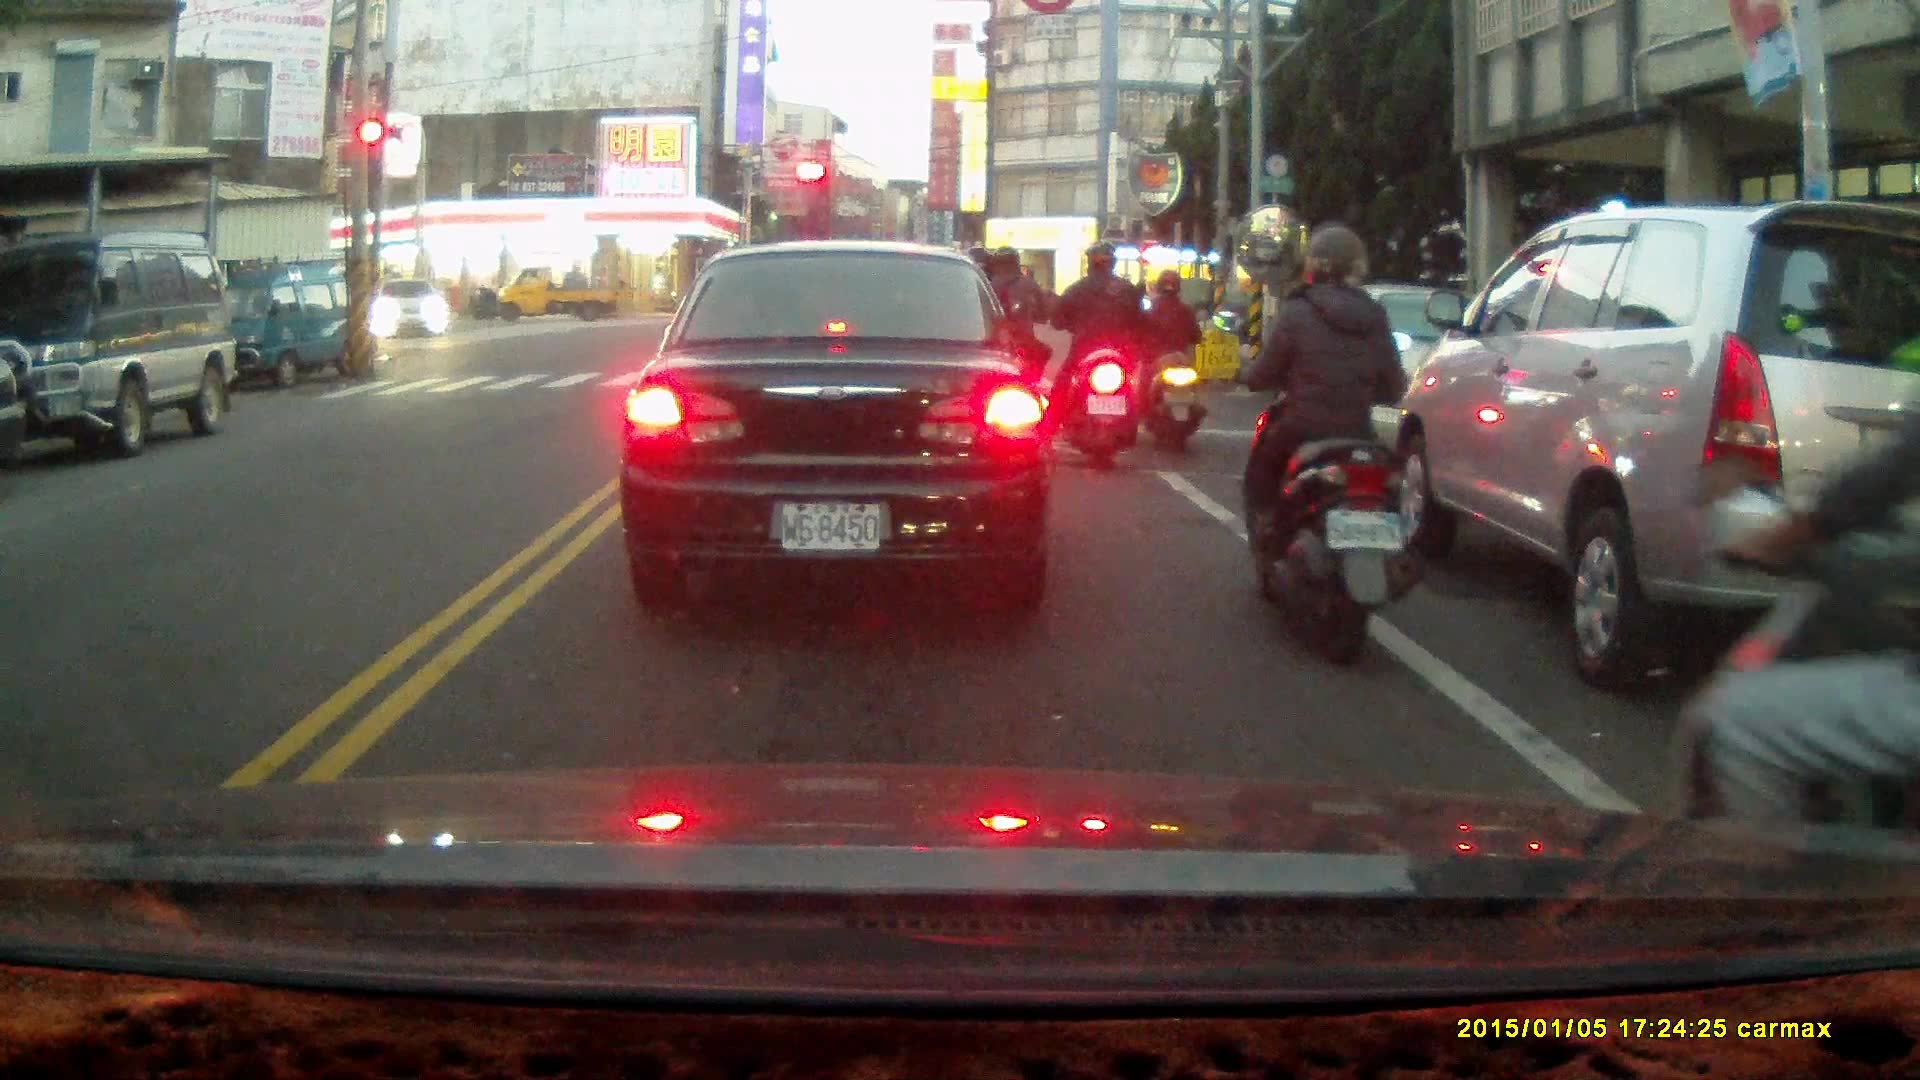rider: (1673, 368, 1920, 895), (1210, 218, 1425, 670), (1048, 243, 1141, 469), (962, 243, 1051, 445), (1134, 269, 1204, 450)
vehicle: (1380, 195, 1920, 685), (617, 243, 1061, 606), (1, 234, 239, 458), (194, 255, 381, 394), (489, 265, 625, 326), (372, 277, 451, 343)
